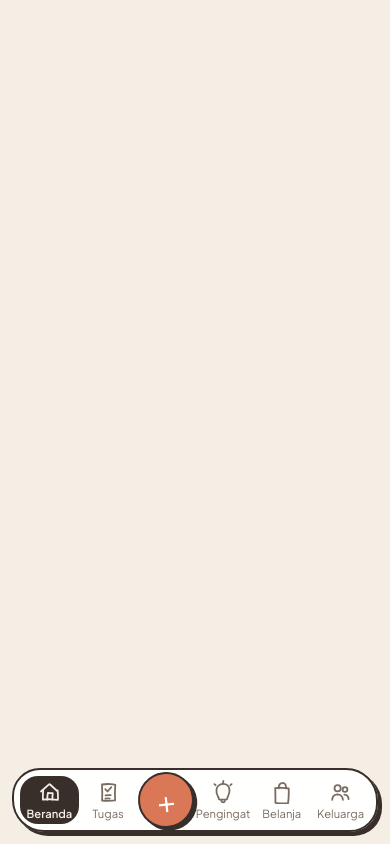
Test: tombol Tambah membuka menu semua dan bisa ditutup
Click the button named "Tambah": (166,800) 135,769 -> 196,831
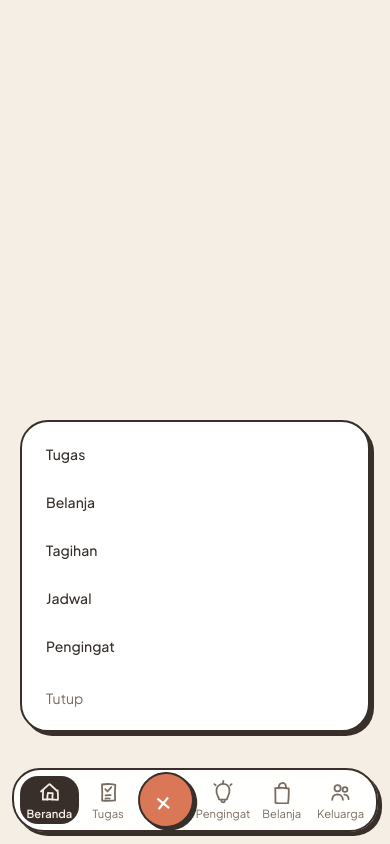
Click the button "Tutup": (65,698) 30,674 -> 360,722
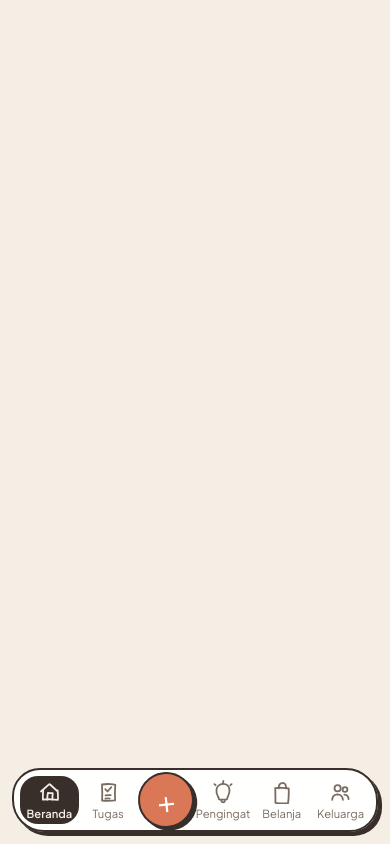
Expected: the dialog is gone
